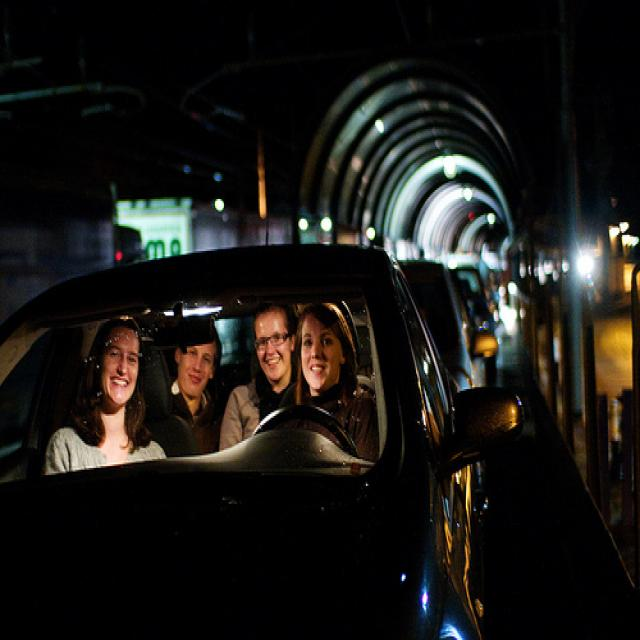Car: (0, 204, 530, 640)
